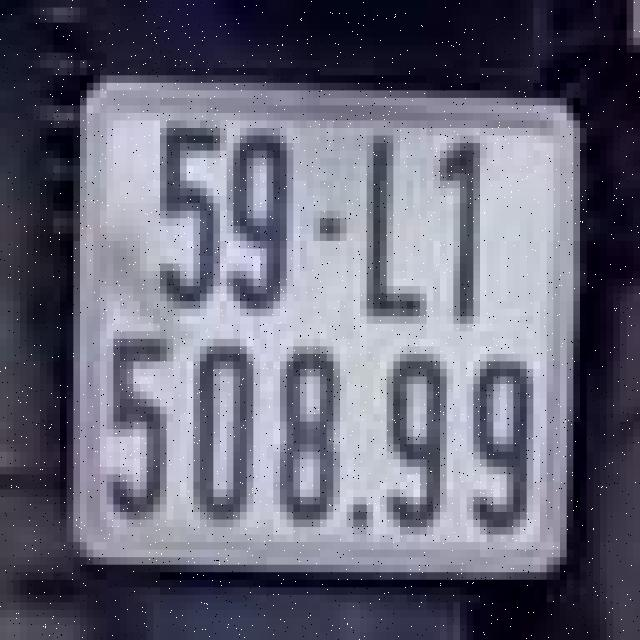0: (184, 328, 264, 538)
1: (436, 132, 496, 328)
5: (94, 323, 174, 534), (144, 113, 224, 316)
8: (273, 338, 347, 534)
9: (374, 354, 454, 542), (227, 124, 300, 320), (470, 350, 537, 538)
L: (350, 124, 430, 328)
